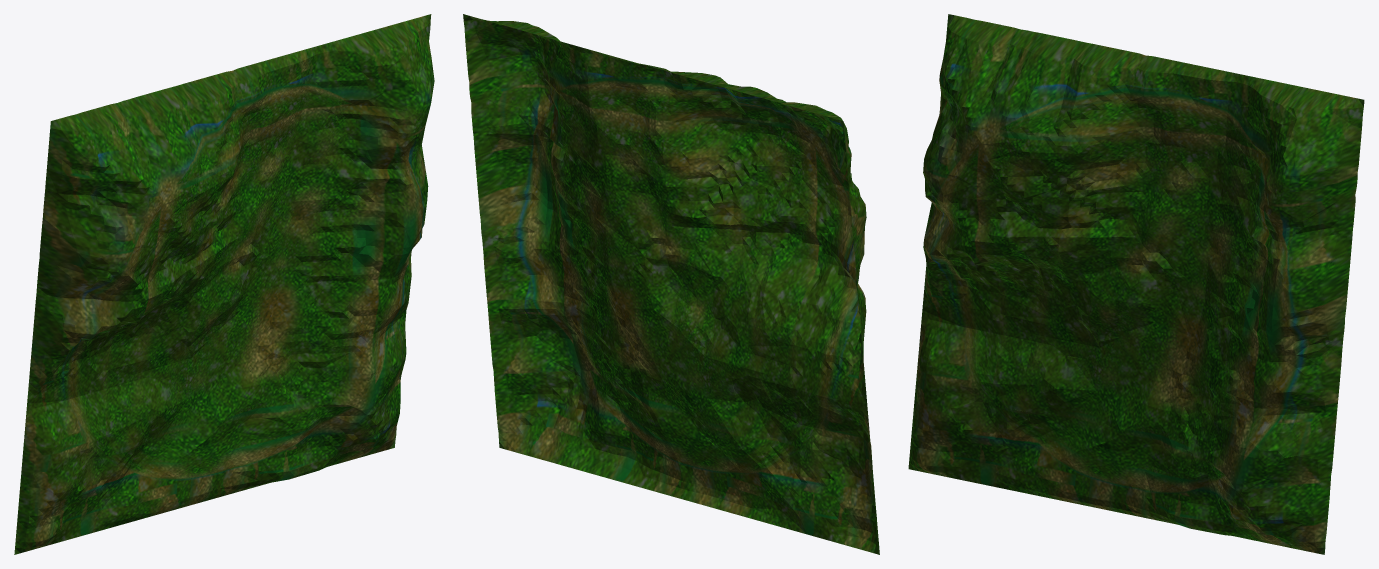
The model's file is greenisland_wtf.obj.
3 views of the same model, side by side, from view 1: azimuth 30°, elevation 25°; view 2: azimuth 150°, elevation 25°; view 3: azimuth 330°, elevation 25° (orthographic). The views are drawn at different scales.
Visible parts, largest first — view 1: group2; view 2: group2; view 3: group2.
Boxes of the visible parts, box(x1,y1,x2,y2) form: group2: box(14, 14, 434, 554); group2: box(463, 14, 879, 554); group2: box(908, 14, 1364, 554).
Bounding box in the file's own units: 655 × 660 × 114.
